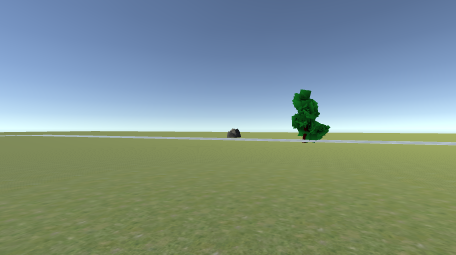rock: (227, 128, 241, 138)
tree: (291, 88, 330, 142)
